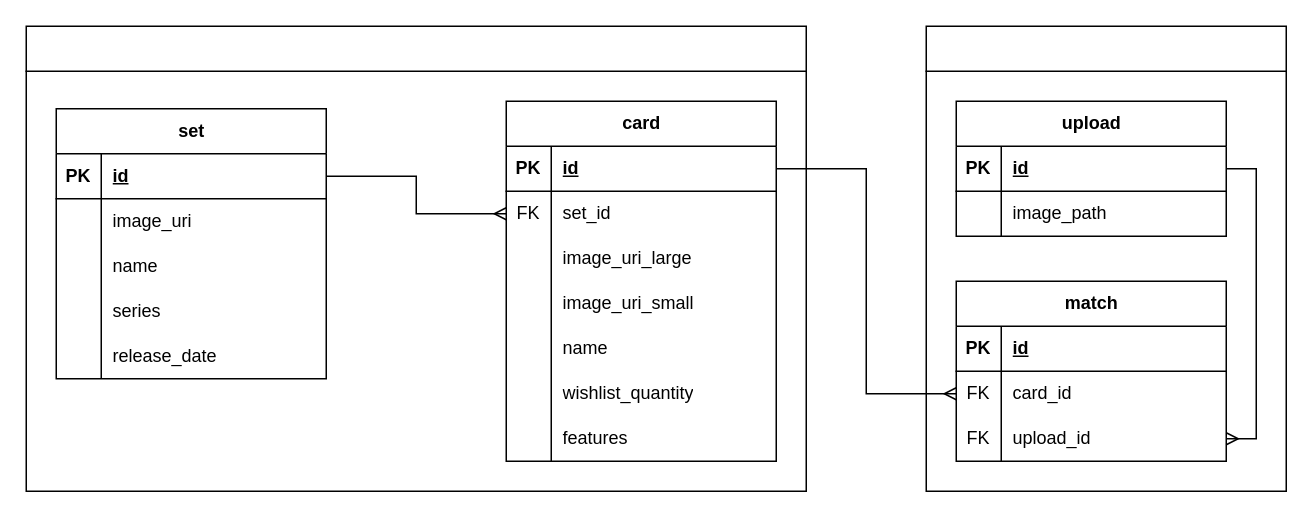
The diagram is 1313 pixels wide and 518 high, and some of its shapes have lost their labels. The shapes that lost their labels are listed below. From the top down, each one's centre as x and y in pixels, then its label:
the point at 415,48: sdk_cache
the point at 1105,48: user_data
